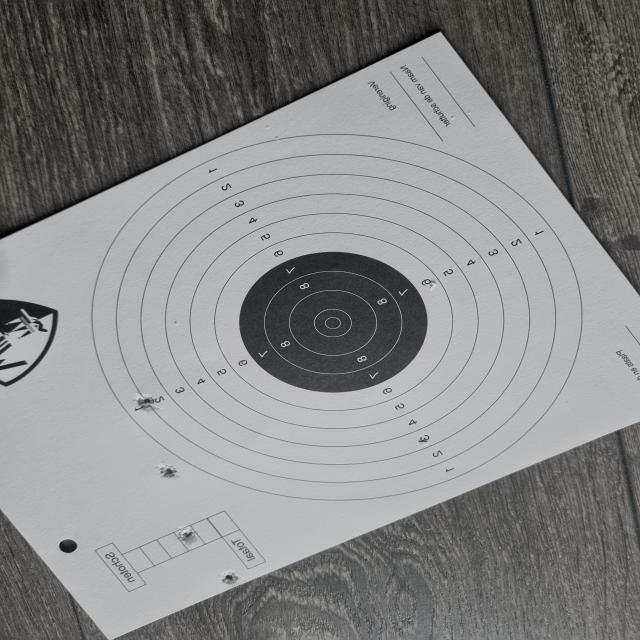0: (178, 529, 196, 542), (159, 466, 178, 478), (221, 572, 238, 584)
2: (133, 396, 155, 409)
Target: (92, 134, 583, 502)
black_contour: (238, 251, 430, 394)
